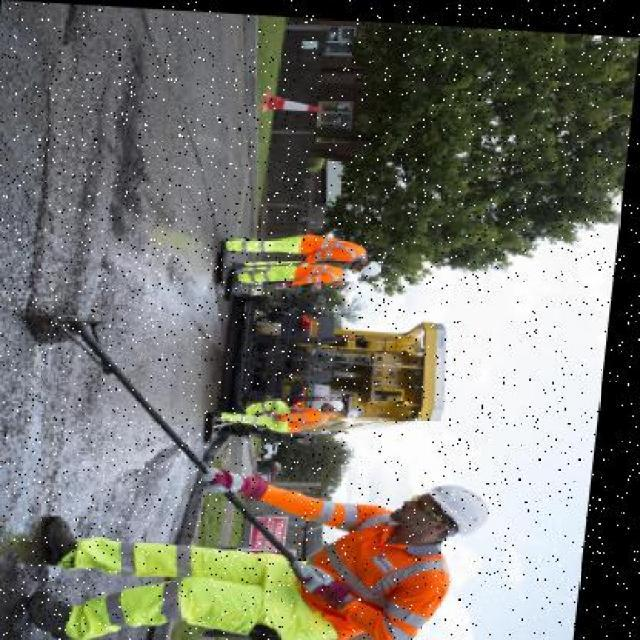helmet: (423, 474, 505, 536), (355, 251, 387, 274), (326, 392, 354, 408), (342, 272, 365, 288)
vest: (303, 498, 447, 640), (306, 229, 373, 257), (292, 399, 338, 432), (297, 260, 351, 281)
